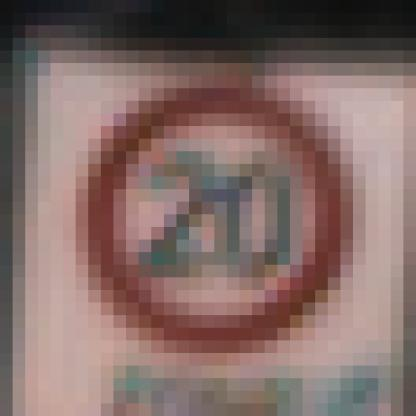Speed Limit 20: (90, 90, 348, 347)
